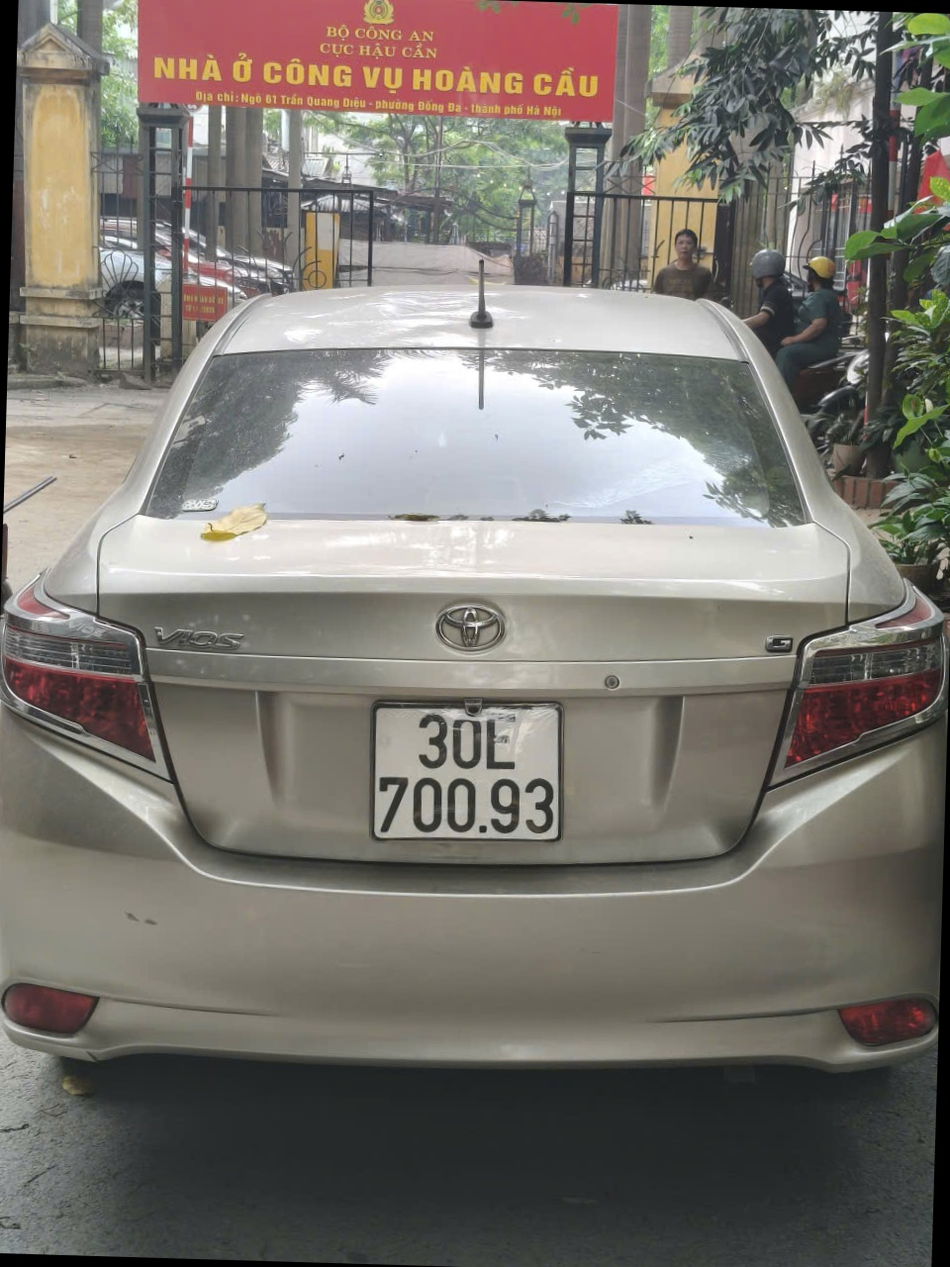plate: (406, 60, 528, 96)
